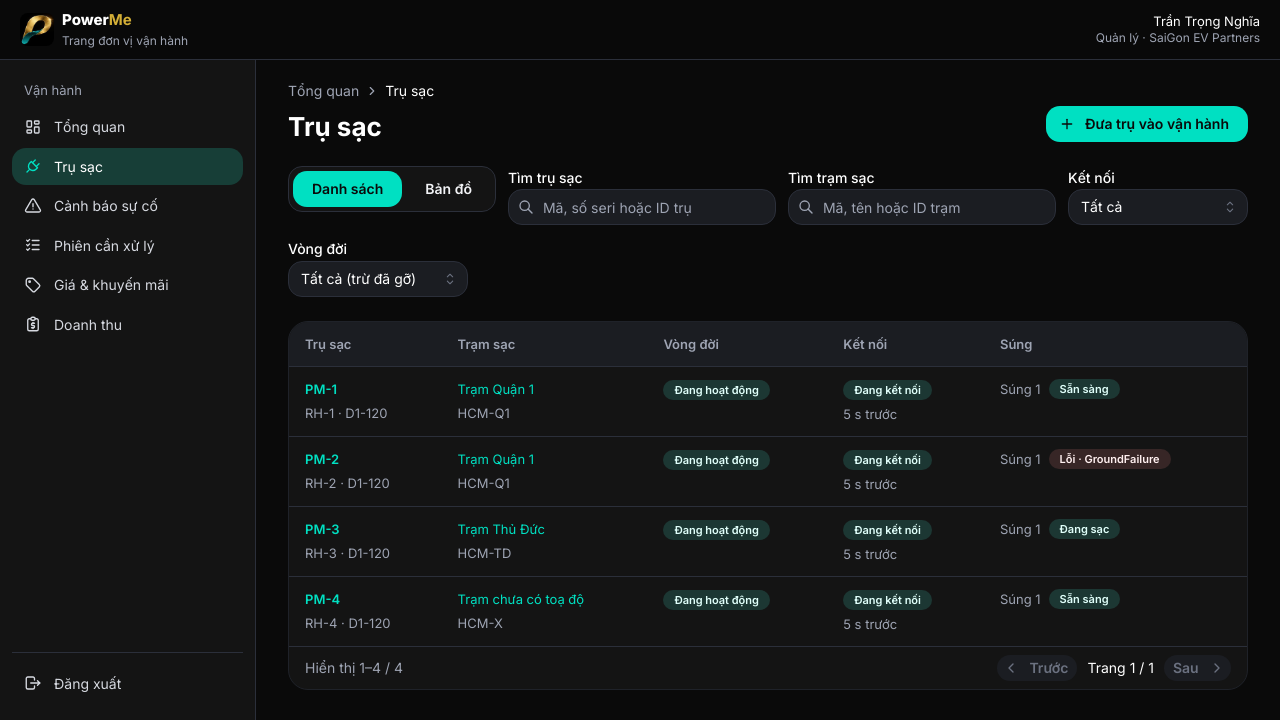
it: Bản đồ Charge Point (màn 18, FE-03c) › "Bản đồ" asks for up to 100 with the same filters; without a key the station list still works
Check: the row named "Trụ sạc PM-1" is shown, box [289,366,1247,436]
Select "Đang kết nối" in the dropdown labelled "Kết nối": (1158, 207) [1068,189,1248,225]
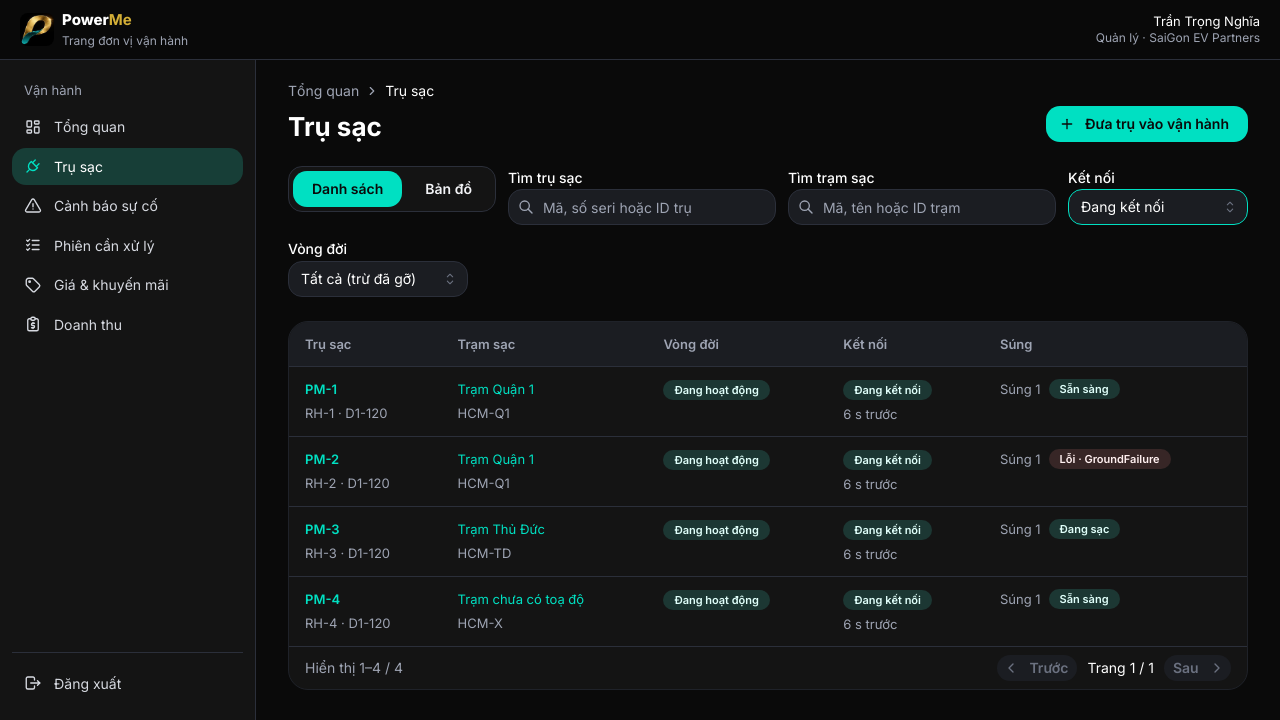
Click the button "Bản đồ": (449, 189) [406,171,491,207]
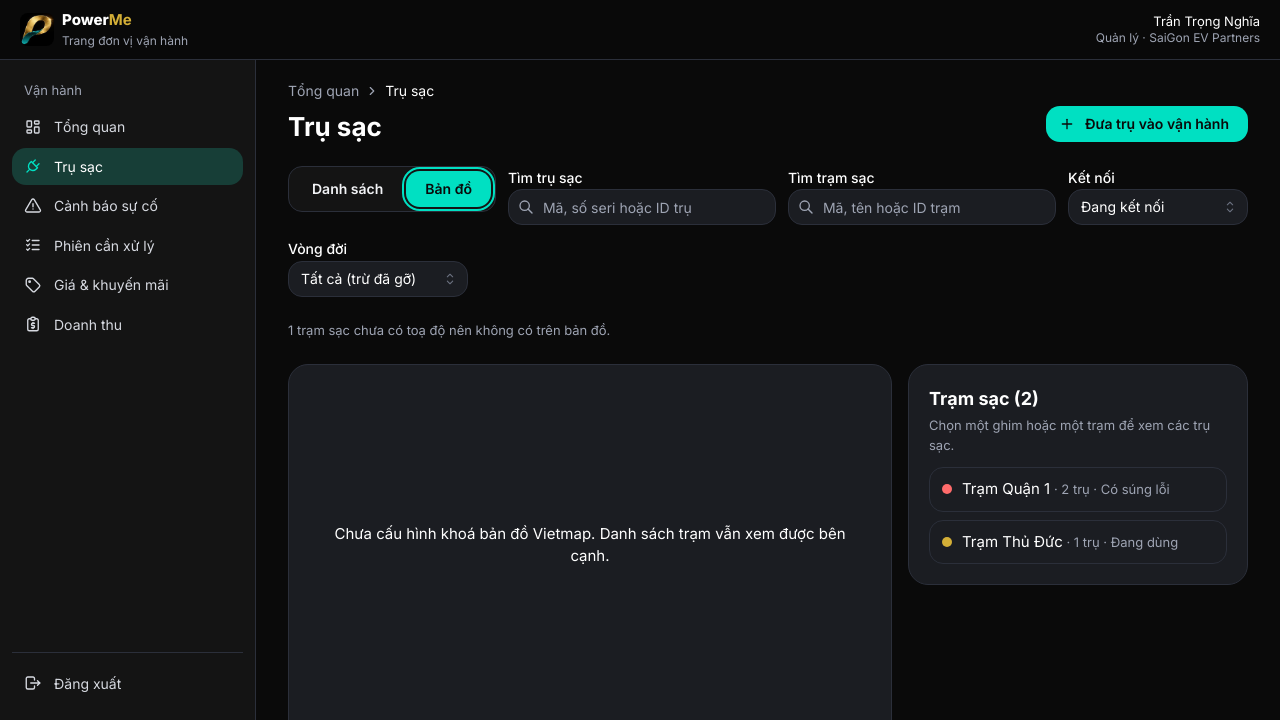
Check: the text "Chưa cấu hình khoá bản đồ Vietmap. Danh sách trạm vẫn xem được bên cạnh." is shown, box [334,524,846,565]
Check: the text "1 trạm sạc chưa có toạ độ nên không có trên bản đồ." is shown, box [288,322,610,338]
Click the button "Trạm Quận 1 · 2 trụ · Có súng lỗi": (1078, 489) [929,467,1227,512]
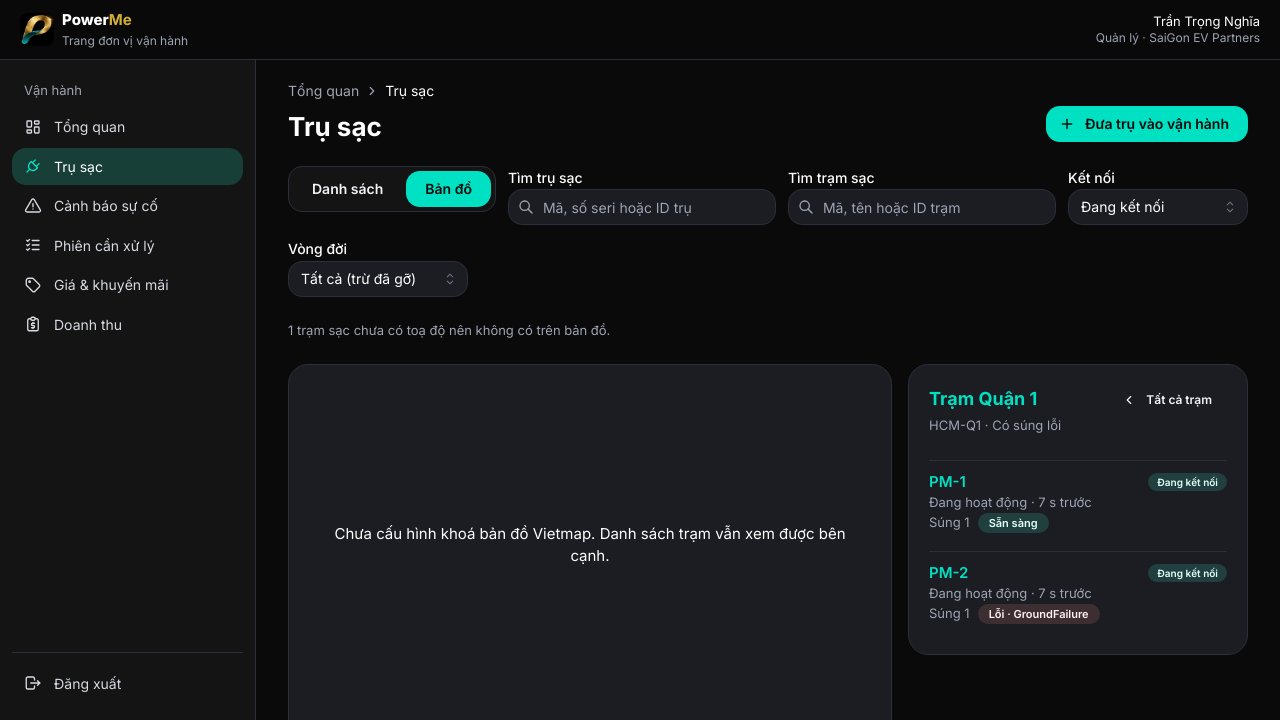
Check: the text "HCM-Q1 · Có súng lỗi" is shown, box [929,416,1061,436]
Check: the text "Lỗi · GroundFailure" is shown, box [989,606,1088,620]
Click the button "Tất cả trạm": (1170, 400) [1112,385,1227,415]
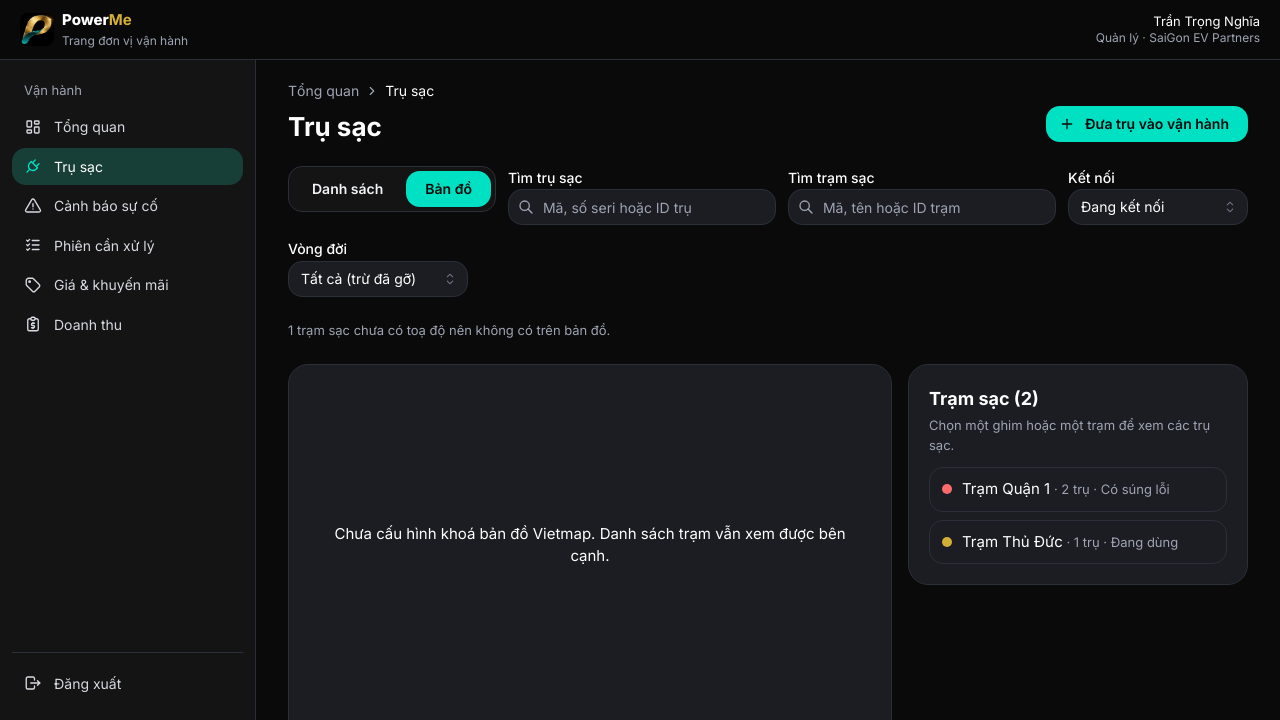
Check: the element named "Trạm sạc trên bản đồ" is shown, box [908,364,1248,585]
Click the button "Danh sách": (348, 189) [293,171,402,207]
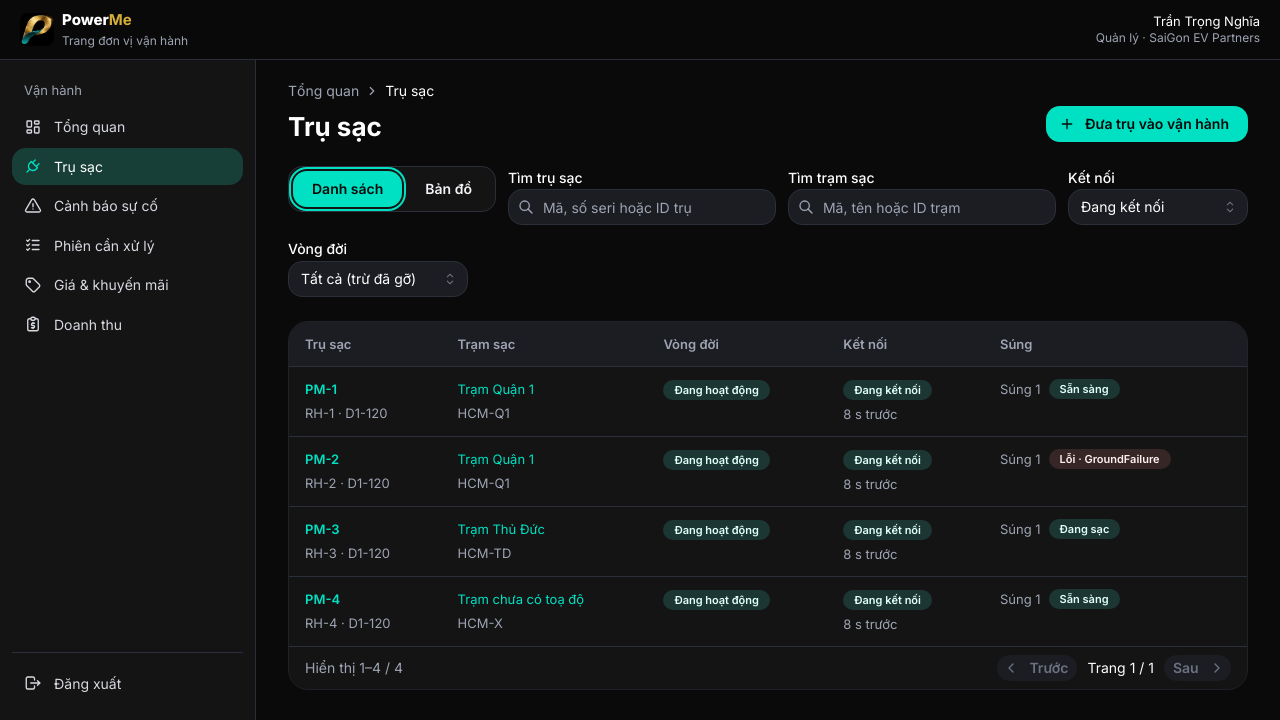
Check: the row named "Trụ sạc PM-1" is shown, box [289,366,1247,436]
